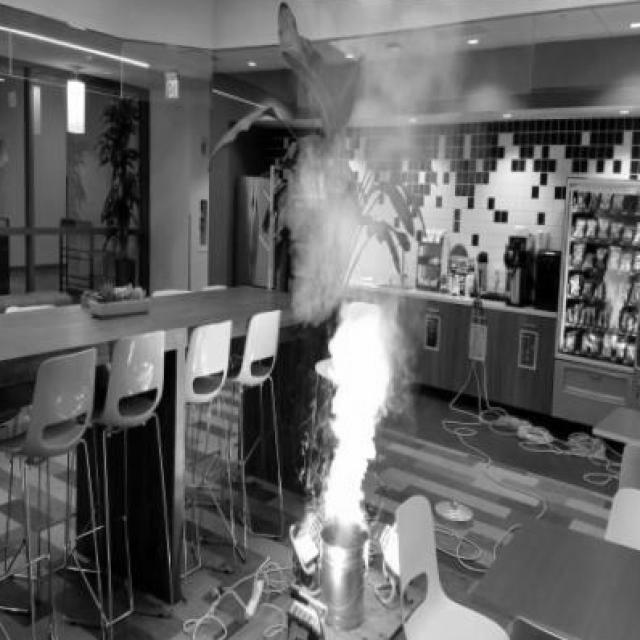fire: (283, 0, 463, 323), (313, 298, 403, 519)
